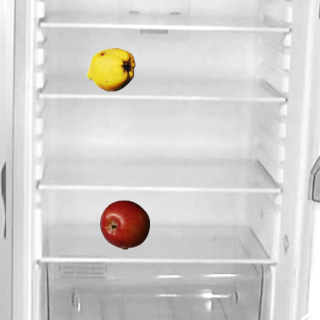Apple Braeburn: (99, 199, 149, 249)
Quince: (85, 44, 135, 94)
